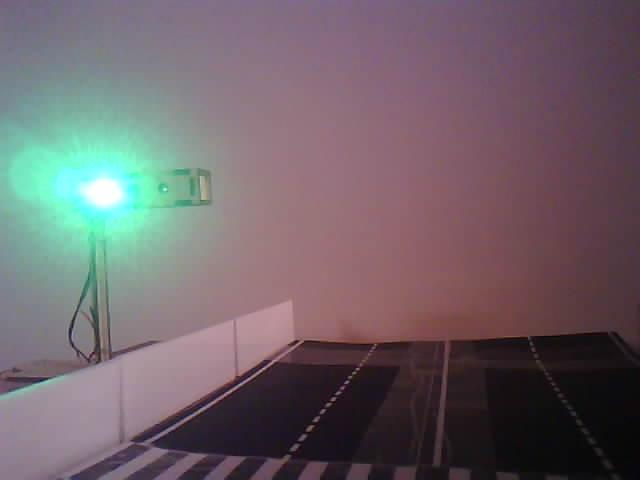green: (25, 151, 226, 256)
